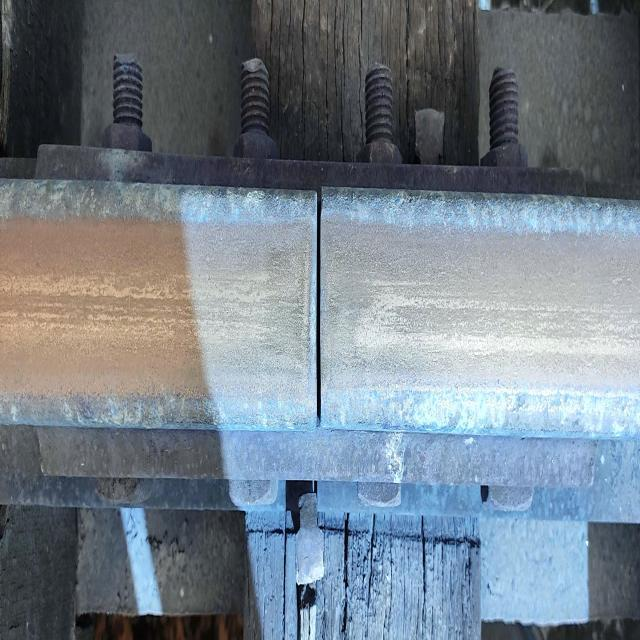Good Fasteners: (296, 493, 324, 584)
Good Joint: (36, 113, 612, 516)
